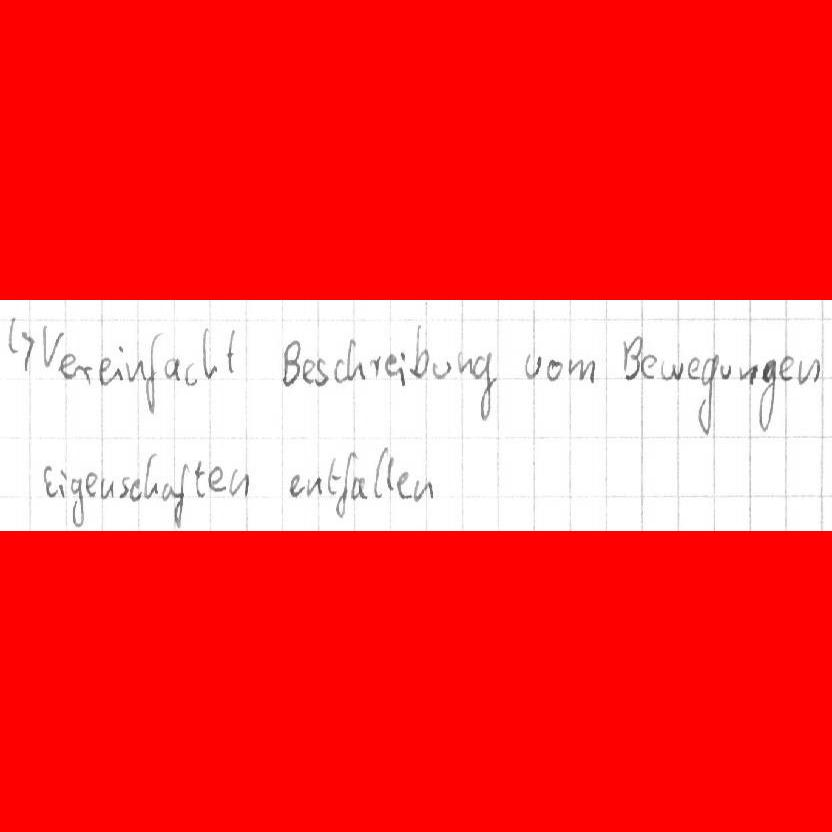Char: (5, 313, 36, 373), (471, 348, 495, 423), (696, 353, 717, 436), (758, 356, 778, 434), (144, 329, 162, 413), (334, 450, 353, 520), (408, 323, 430, 381), (198, 325, 220, 381), (40, 319, 64, 369), (173, 460, 190, 529), (281, 337, 301, 390), (344, 336, 366, 383), (140, 450, 161, 499), (566, 355, 597, 384), (372, 445, 388, 501), (68, 475, 85, 527), (622, 337, 641, 380), (796, 356, 822, 385), (225, 327, 240, 376), (228, 468, 251, 498), (325, 455, 342, 495), (392, 468, 412, 502), (411, 476, 436, 503), (192, 457, 208, 499), (40, 462, 58, 499), (522, 350, 542, 383), (207, 462, 227, 495), (125, 355, 147, 383), (160, 353, 182, 381), (350, 473, 371, 501), (737, 360, 759, 386), (56, 349, 75, 379), (454, 348, 473, 378), (658, 358, 683, 380), (73, 359, 94, 385), (95, 354, 111, 388), (544, 357, 564, 384), (638, 351, 657, 379), (432, 357, 454, 381), (303, 472, 324, 497), (312, 356, 329, 386), (684, 354, 702, 381), (98, 476, 116, 502), (778, 352, 794, 381), (183, 358, 199, 386), (286, 471, 303, 497), (368, 353, 383, 382), (84, 468, 98, 498), (127, 474, 142, 502), (114, 342, 124, 383), (384, 454, 394, 494), (160, 478, 177, 501), (302, 356, 315, 386), (116, 474, 131, 500), (383, 350, 397, 377), (332, 357, 345, 385), (56, 466, 67, 498), (717, 360, 733, 381), (399, 348, 406, 385)
